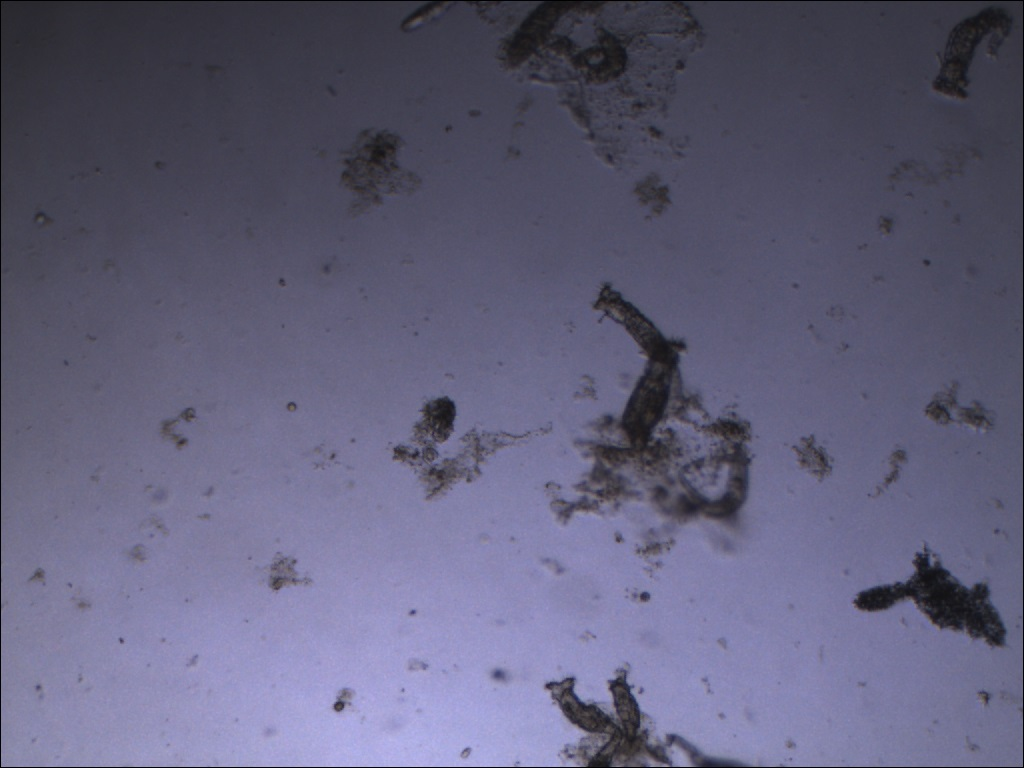amoeba: (849, 541, 1015, 655)
